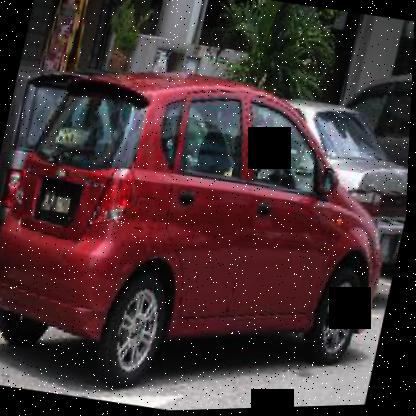not_emergency: (0, 52, 413, 414)
